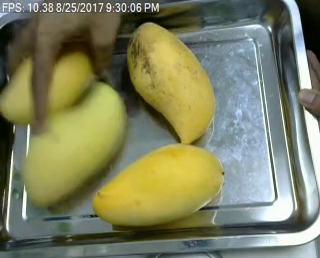Mango: (22, 81, 125, 205), (126, 21, 215, 144), (94, 144, 223, 228), (0, 49, 91, 121)
